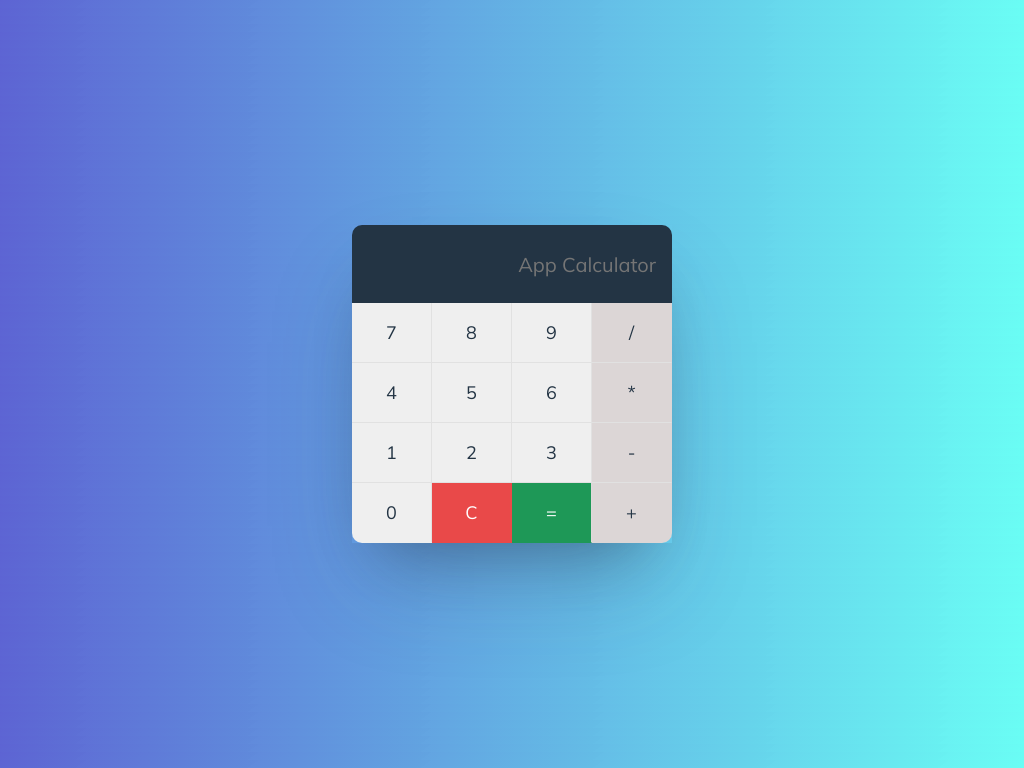
Test case: Verificar el comportamiento de los botones › Aplicar operador suma
Click the button "1": click(392, 453) 352,423 -> 432,483
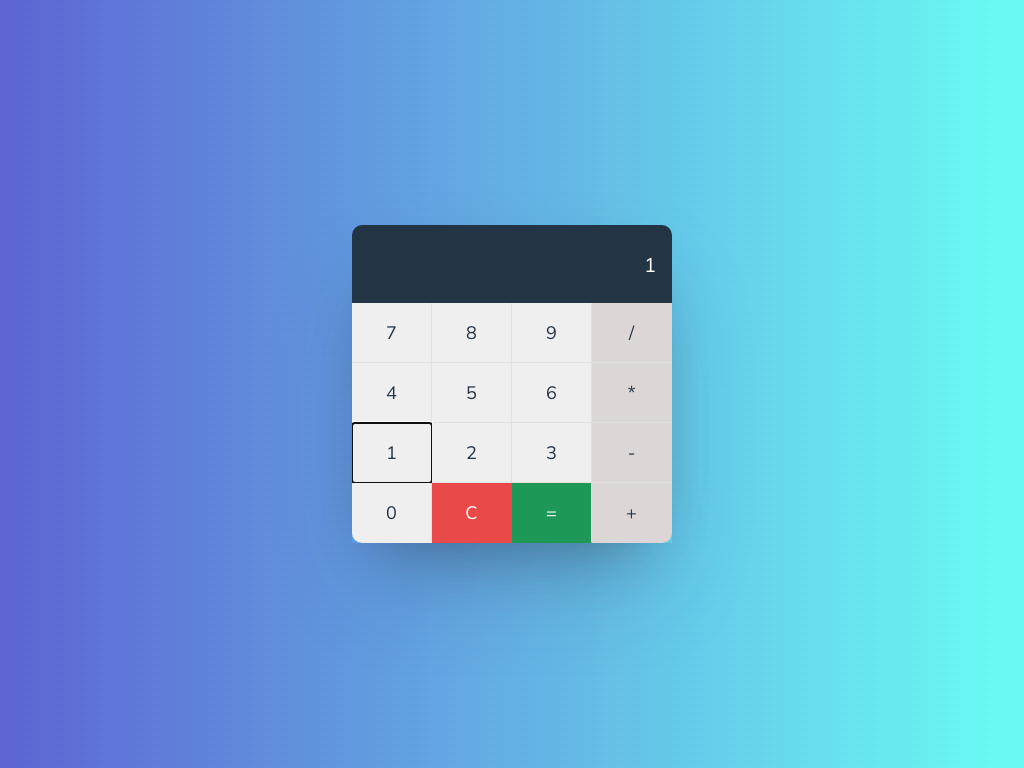
Click the button "+": click(632, 513) 592,483 -> 672,543
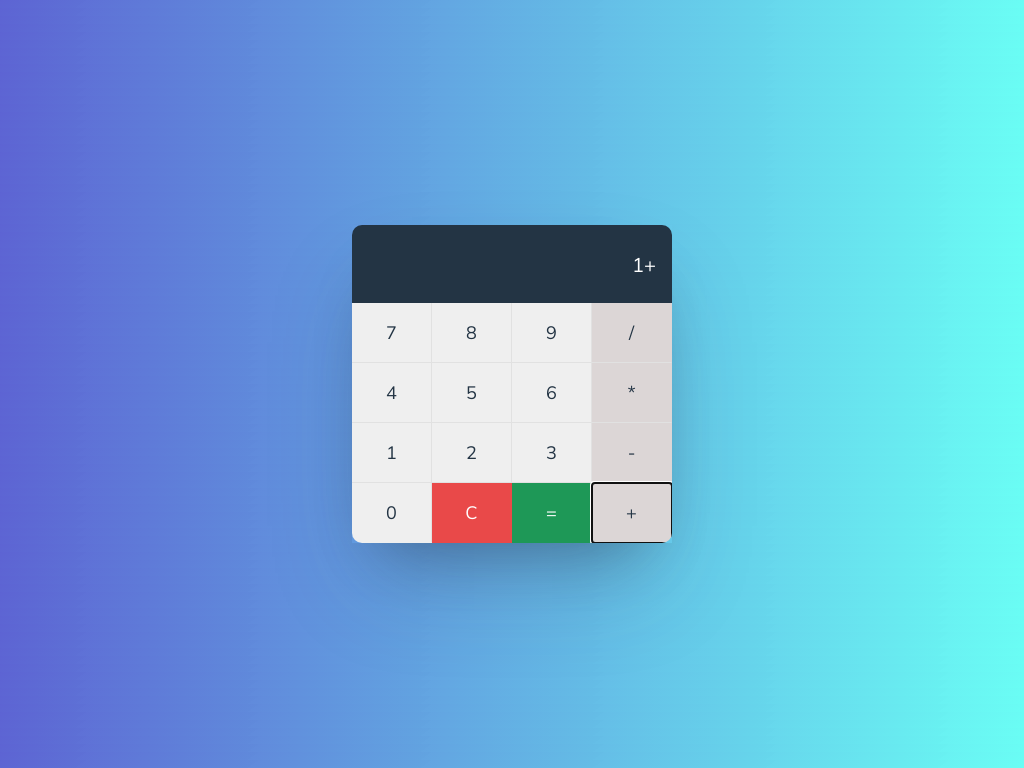
Click the button "1": click(392, 453) 352,423 -> 432,483
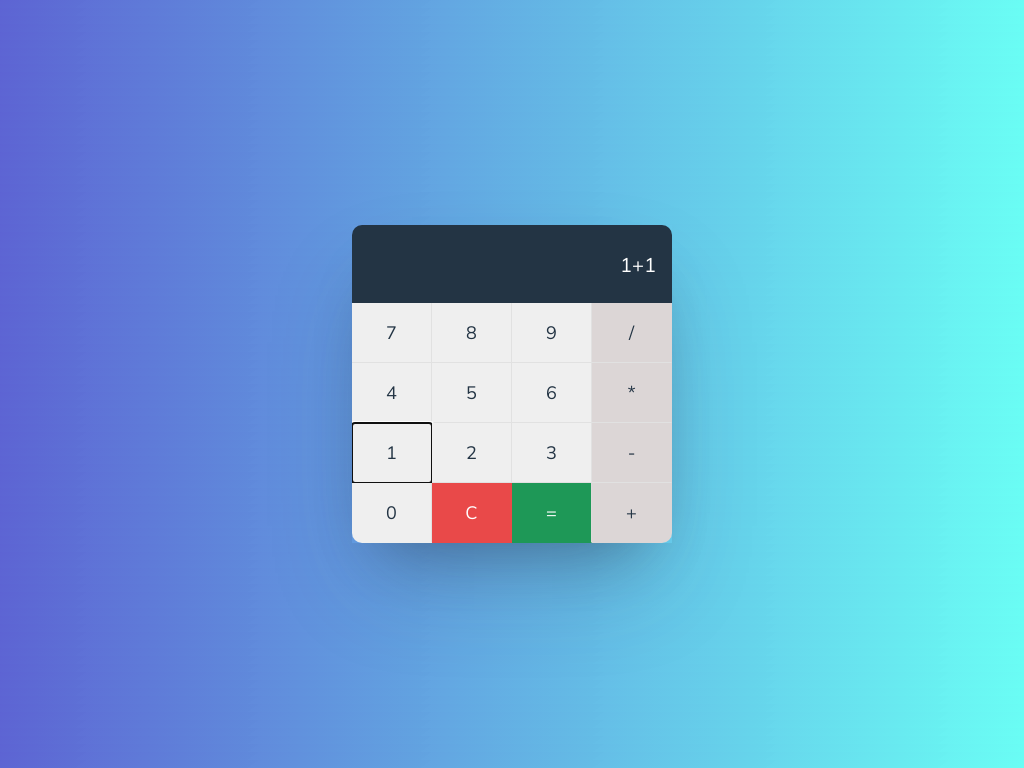
Expected: the field holds "1+1", 352,225 -> 672,303
